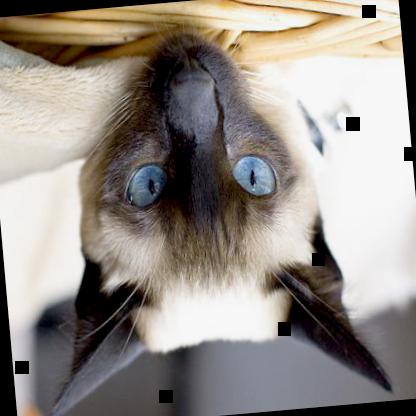cat: (15, 23, 395, 415)
